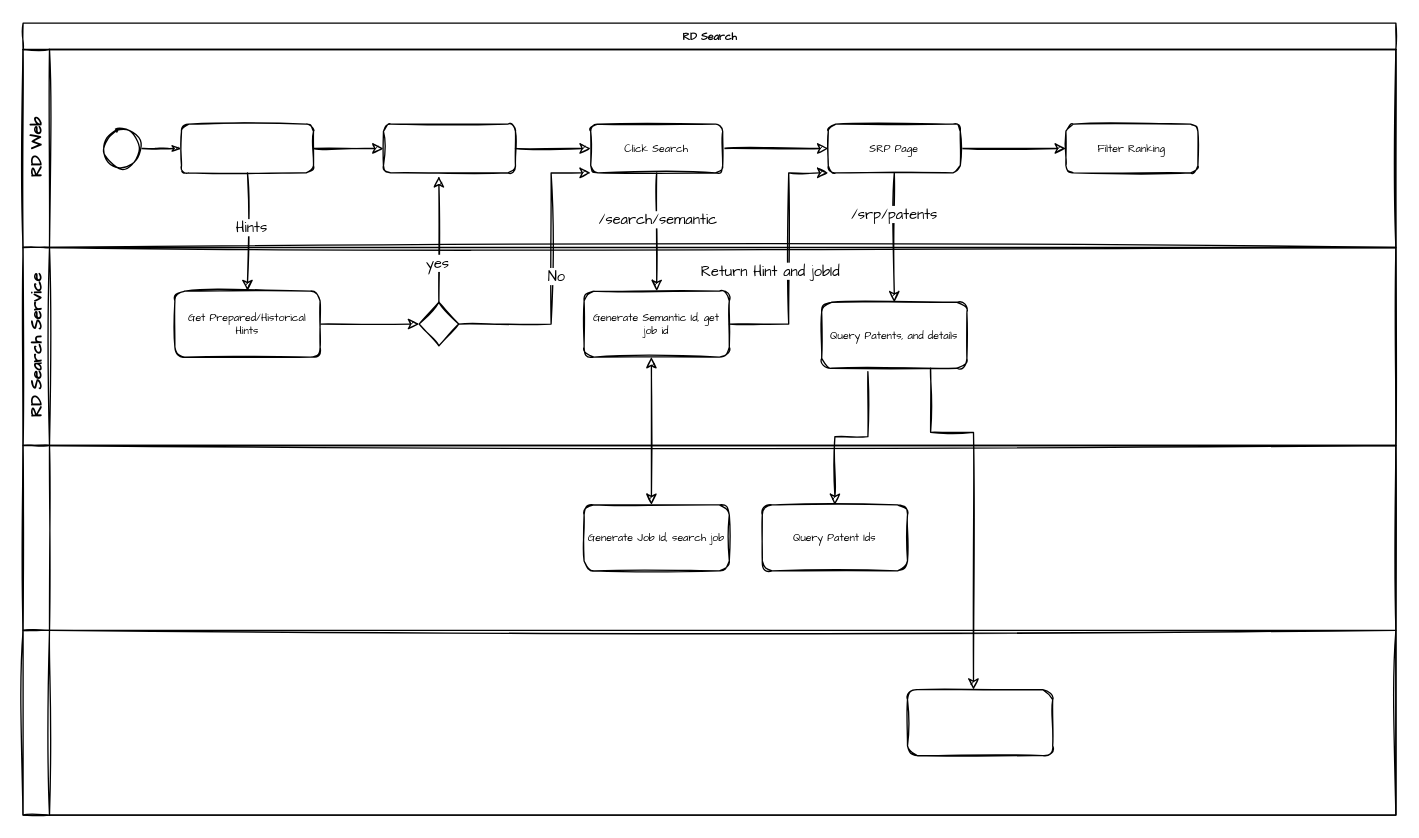
Some shapes in this 1419 by 838 pixel diagram are drawn without their labels. Each missing label, with the box of its shape:
Chose Hint: (382, 123, 515, 173)
Get Patent Info: (906, 688, 1053, 756)
Has: (418, 301, 459, 346)
Patent Data API: (22, 629, 1396, 815)
Search API: (22, 444, 1396, 630)
Type Content: (180, 123, 314, 173)
